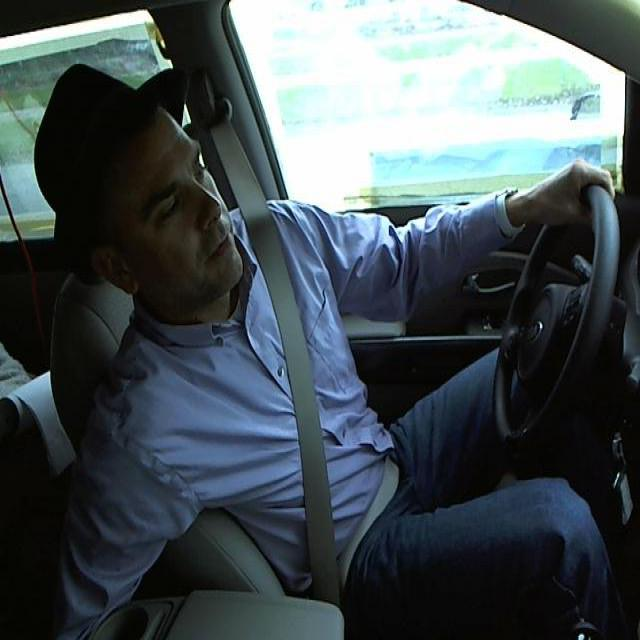seatbelt: (258, 244, 367, 588)
